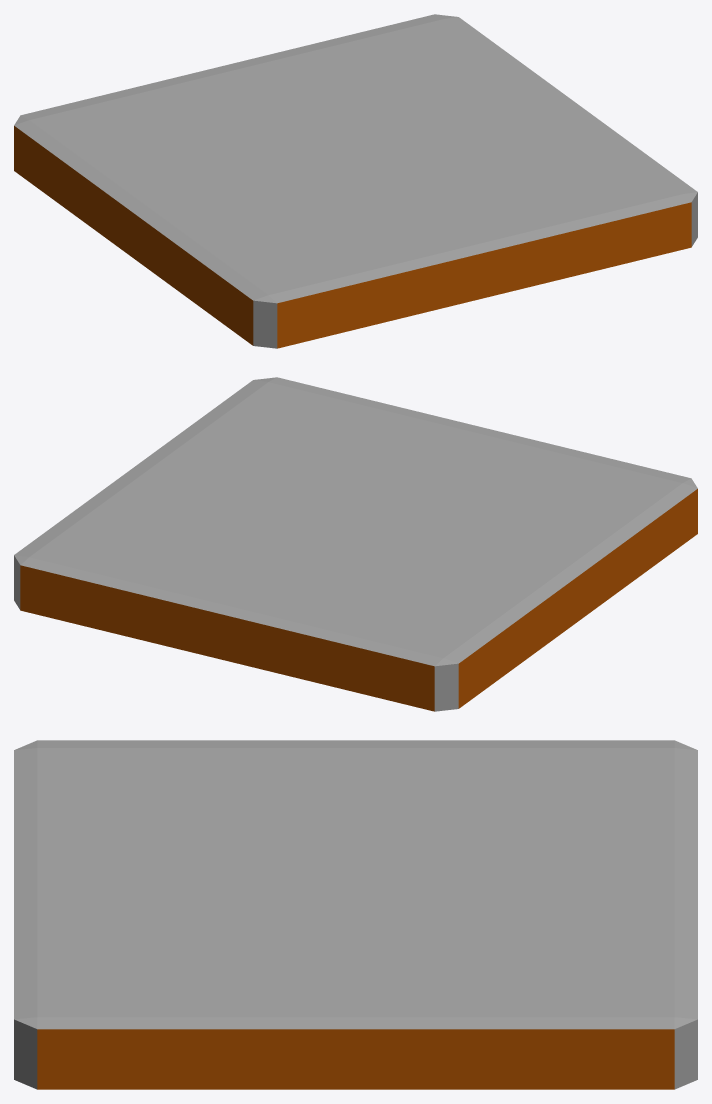
Rendered from NEWBlock 1.fbx.
The picture shows the model from 3 angles, top to bottom: view 1: azimuth 30°, elevation 25°; view 2: azimuth 150°, elevation 25°; view 3: azimuth 270°, elevation 25°; orthographic projection. The views are drawn at different scales.
Parts seen in each view (by area): view 1: Cube; view 2: Cube; view 3: Cube.
Part boxes in pixels (box(x1,y1,x2,y2)): Cube: box(14, 14, 697, 348); Cube: box(14, 377, 697, 711); Cube: box(14, 740, 697, 1089).
Size of the model in its own units: 200 by 20.92 by 200.
